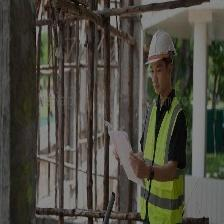Person: (128, 27, 191, 224)
helmet: (141, 32, 177, 66)
vest: (142, 97, 188, 224)
